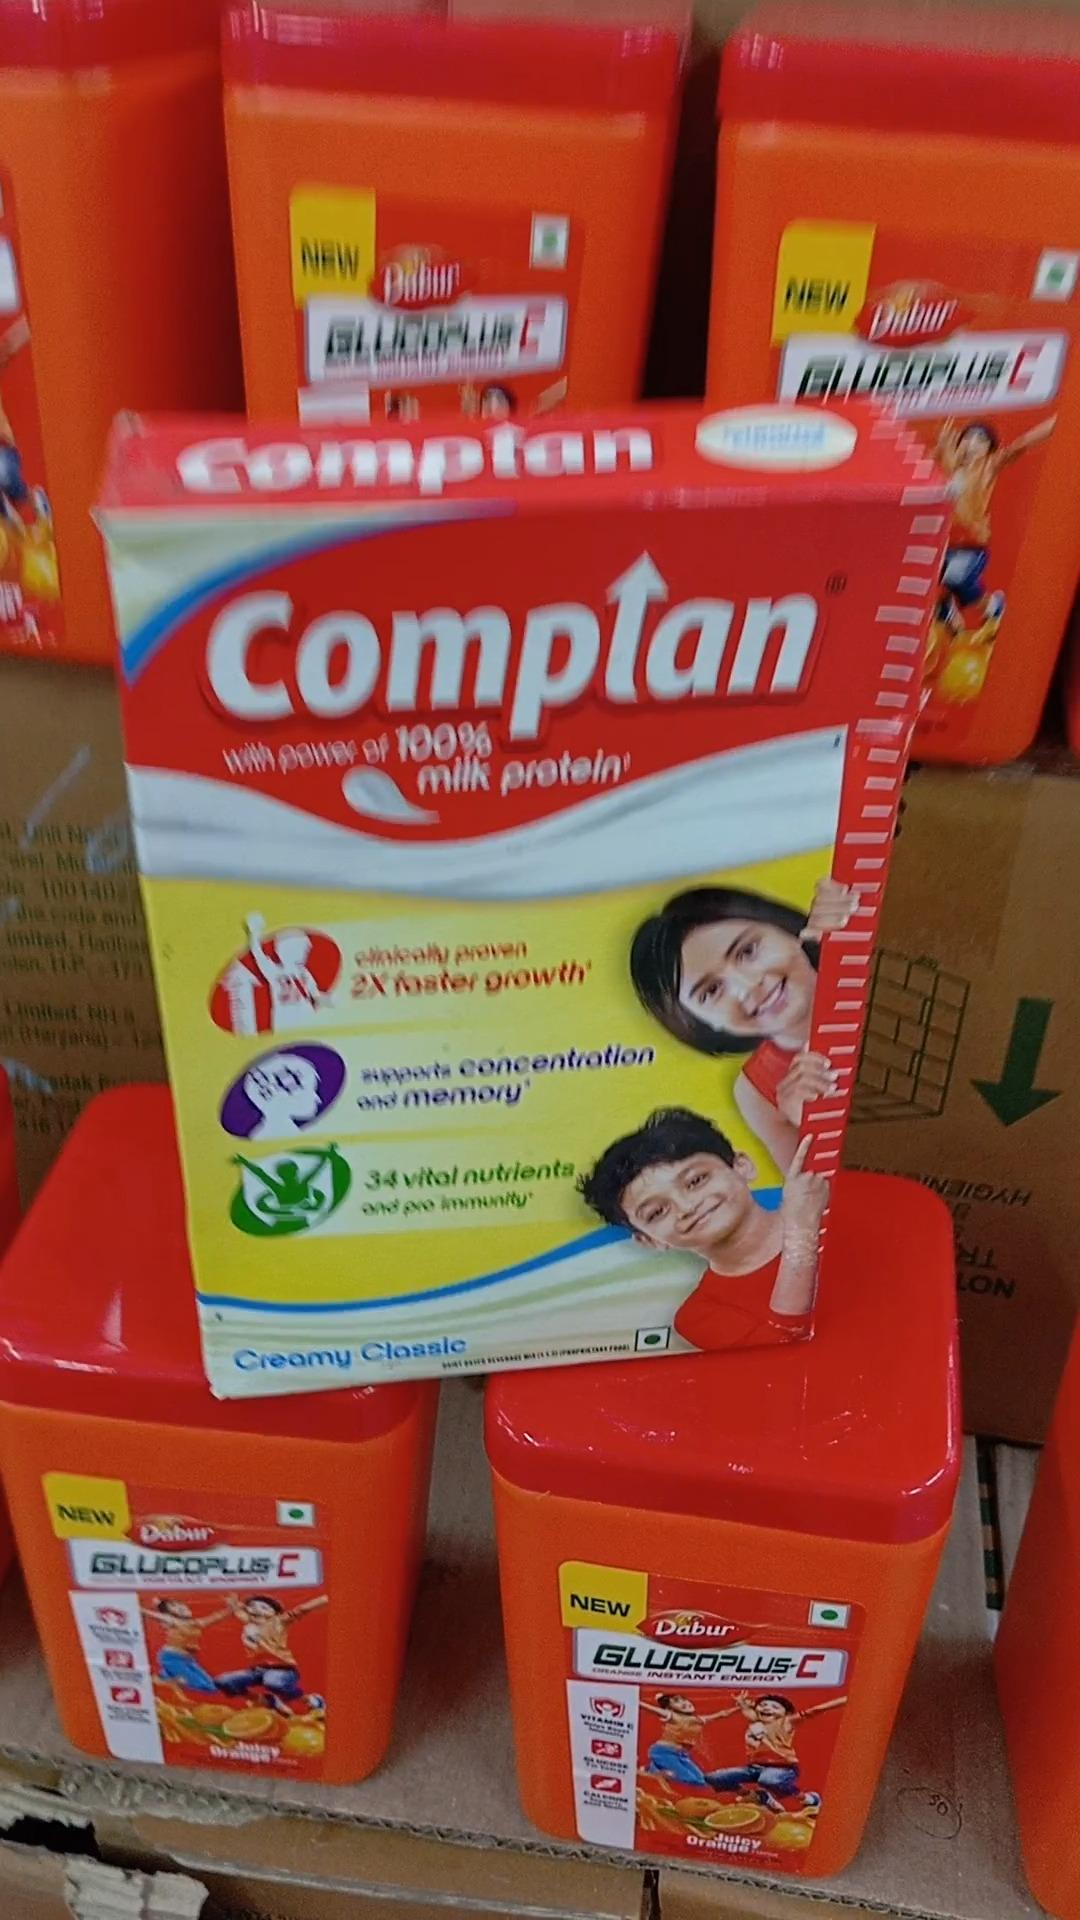COMPLAN_CREAMY_CLASSIC_500_G_PACK: (144, 464, 841, 1341)
